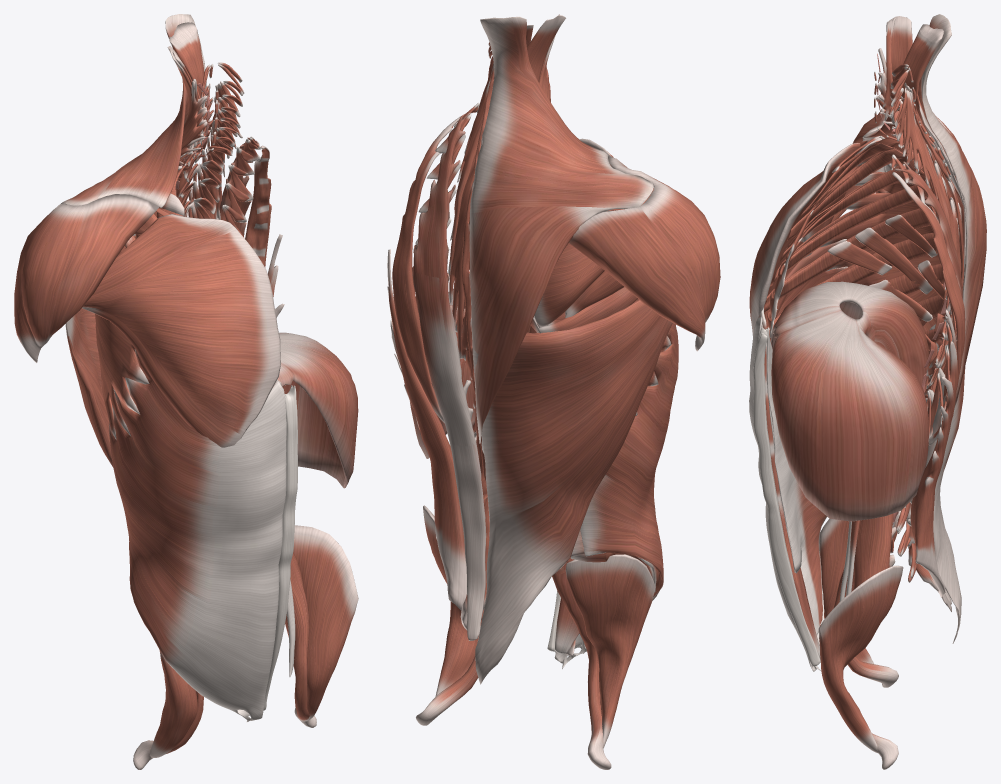
File: open3d-muscles-thorax-abdomen-muscular-01.glb
The picture shows the model from 3 angles, left to right: view 1: azimuth 30°, elevation 25°; view 2: azimuth 150°, elevation 25°; view 3: azimuth 270°, elevation 25°; orthographic projection. The views are drawn at different scales.
Visible parts, largest first — view 1: O3D_fd08e9a33e7e65, O3D_cc9748e8ec2c82, O3D_98903f44c3eb91, O3D_12c55af1341814, O3D_d40ef8ed2b10e1, O3D_be14571bca5972, O3D_ea540924b30d16, O3D_7c20bb8bac9c80, O3D_407f09bc37e331, O3D_adecc06d894b53, O3D_5fe7a0d06fe3f9, O3D_e2bd8332721822 (+7 smaller); view 2: O3D_7c20bb8bac9c80, O3D_be14571bca5972, O3D_98903f44c3eb91, O3D_8fd366deb726e3, O3D_12c55af1341814, O3D_fd08e9a33e7e65, O3D_360041b6610976, O3D_5fe7a0d06fe3f9, O3D_adecc06d894b53, O3D_27dae8ce631018, O3D_a5c5f4ab2955ee, O3D_64a66b9b9b7fd5 (+9 smaller); view 3: O3D_d40ef8ed2b10e1, O3D_12c55af1341814, O3D_a1f134cc150f08, O3D_be14571bca5972, O3D_cd8c518cbcd500, O3D_407f09bc37e331, O3D_cc9748e8ec2c82, O3D_4b445511979b42, O3D_adecc06d894b53, O3D_360041b6610976, O3D_ea540924b30d16, O3D_7c20bb8bac9c80 (+24 smaller).
Part boxes in pixels (x1,y1,x2,y2): O3D_fd08e9a33e7e65: [109, 349, 286, 722]; O3D_cc9748e8ec2c82: [82, 214, 280, 447]; O3D_98903f44c3eb91: [14, 194, 159, 362]; O3D_12c55af1341814: [149, 525, 358, 757]; O3D_d40ef8ed2b10e1: [277, 332, 358, 488]; O3D_be14571bca5972: [61, 14, 206, 207]; O3D_ea540924b30d16: [95, 193, 184, 439]; O3D_7c20bb8bac9c80: [65, 308, 113, 467]; O3D_407f09bc37e331: [263, 385, 297, 710]; O3D_adecc06d894b53: [133, 552, 316, 769]; O3D_5fe7a0d06fe3f9: [178, 145, 271, 267]; O3D_e2bd8332721822: [180, 62, 243, 214]; O3D_7c20bb8bac9c80: [473, 300, 672, 684]; O3D_be14571bca5972: [469, 16, 653, 443]; O3D_98903f44c3eb91: [569, 154, 720, 351]; O3D_8fd366deb726e3: [413, 112, 530, 640]; O3D_12c55af1341814: [423, 505, 655, 747]; O3D_fd08e9a33e7e65: [554, 323, 678, 668]; O3D_360041b6610976: [387, 249, 466, 610]; O3D_5fe7a0d06fe3f9: [392, 116, 537, 422]; O3D_adecc06d894b53: [416, 432, 611, 769]; O3D_27dae8ce631018: [534, 243, 604, 326]; O3D_a5c5f4ab2955ee: [449, 154, 475, 358]; O3D_64a66b9b9b7fd5: [538, 287, 637, 333]; O3D_d40ef8ed2b10e1: [771, 281, 929, 521]; O3D_12c55af1341814: [818, 511, 903, 753]; O3D_a1f134cc150f08: [777, 143, 946, 368]; O3D_be14571bca5972: [862, 14, 986, 406]; O3D_cd8c518cbcd500: [767, 327, 826, 635]; O3D_407f09bc37e331: [753, 327, 820, 666]; O3D_cc9748e8ec2c82: [749, 142, 884, 336]; O3D_4b445511979b42: [827, 214, 946, 350]; O3D_adecc06d894b53: [833, 513, 898, 769]; O3D_360041b6610976: [910, 309, 957, 597]; O3D_ea540924b30d16: [820, 140, 943, 325]; O3D_7c20bb8bac9c80: [884, 166, 965, 643].
Bounding box in the file's own units: 0.3526 × 0.8062 × 0.2485.
8 materials, 8 textured.
